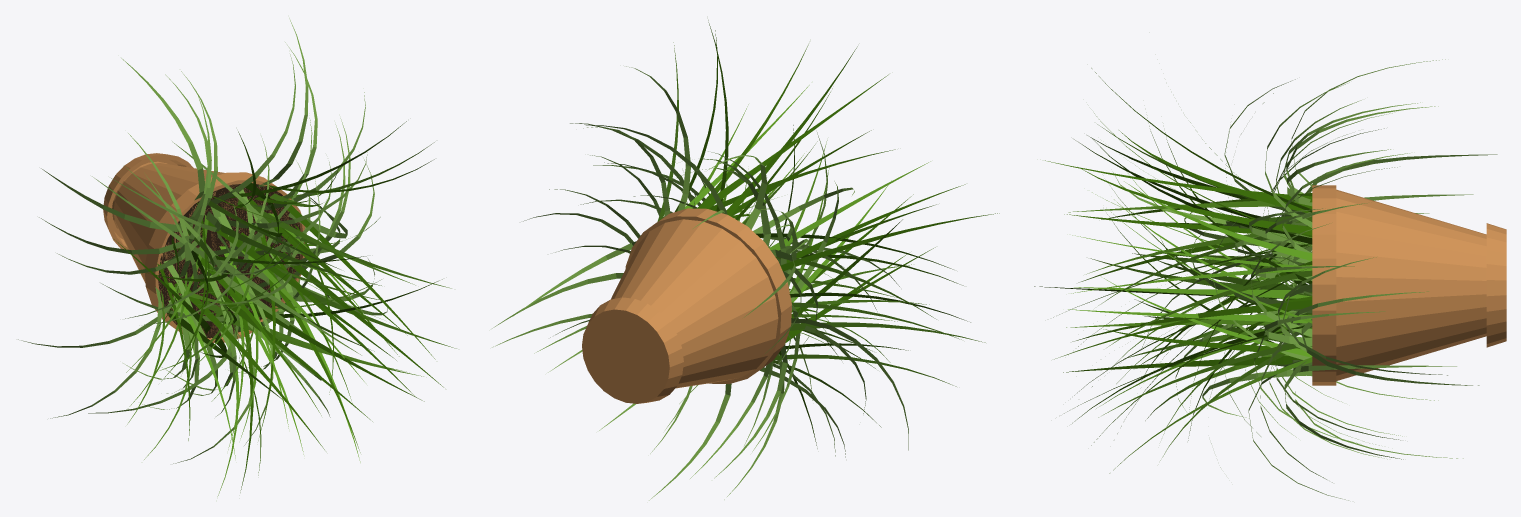
The picture shows the model from 3 angles, left to right: view 1: azimuth 30°, elevation 25°; view 2: azimuth 150°, elevation 25°; view 3: azimuth 270°, elevation 25°; orthographic projection. The views are drawn at different scales.
Parts seen in each view (by area): view 1: potted plant; view 2: potted plant; view 3: potted plant.
Boxes of the visible parts, <box> form: potted plant: <box>18,18,456,496</box>; potted plant: <box>492,20,999,500</box>; potted plant: <box>1034,59,1506,500</box>.
Size of the model in its own units: 29.79 by 31.42 by 29.73.
